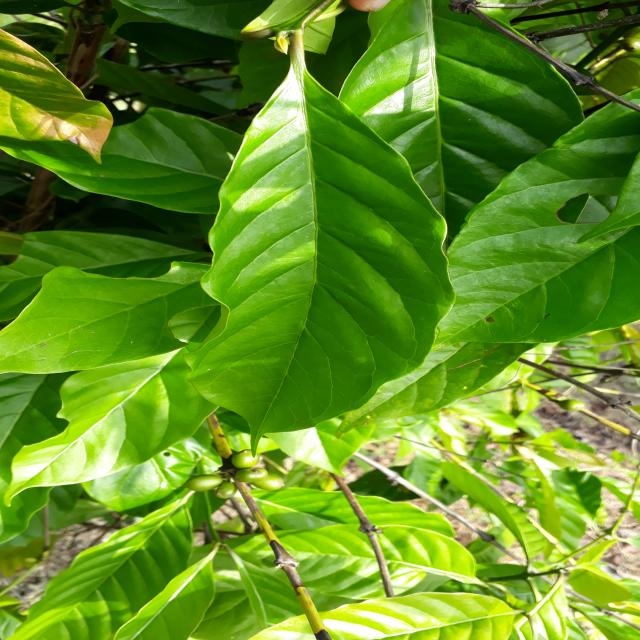Sanas: (188, 30, 455, 448)
